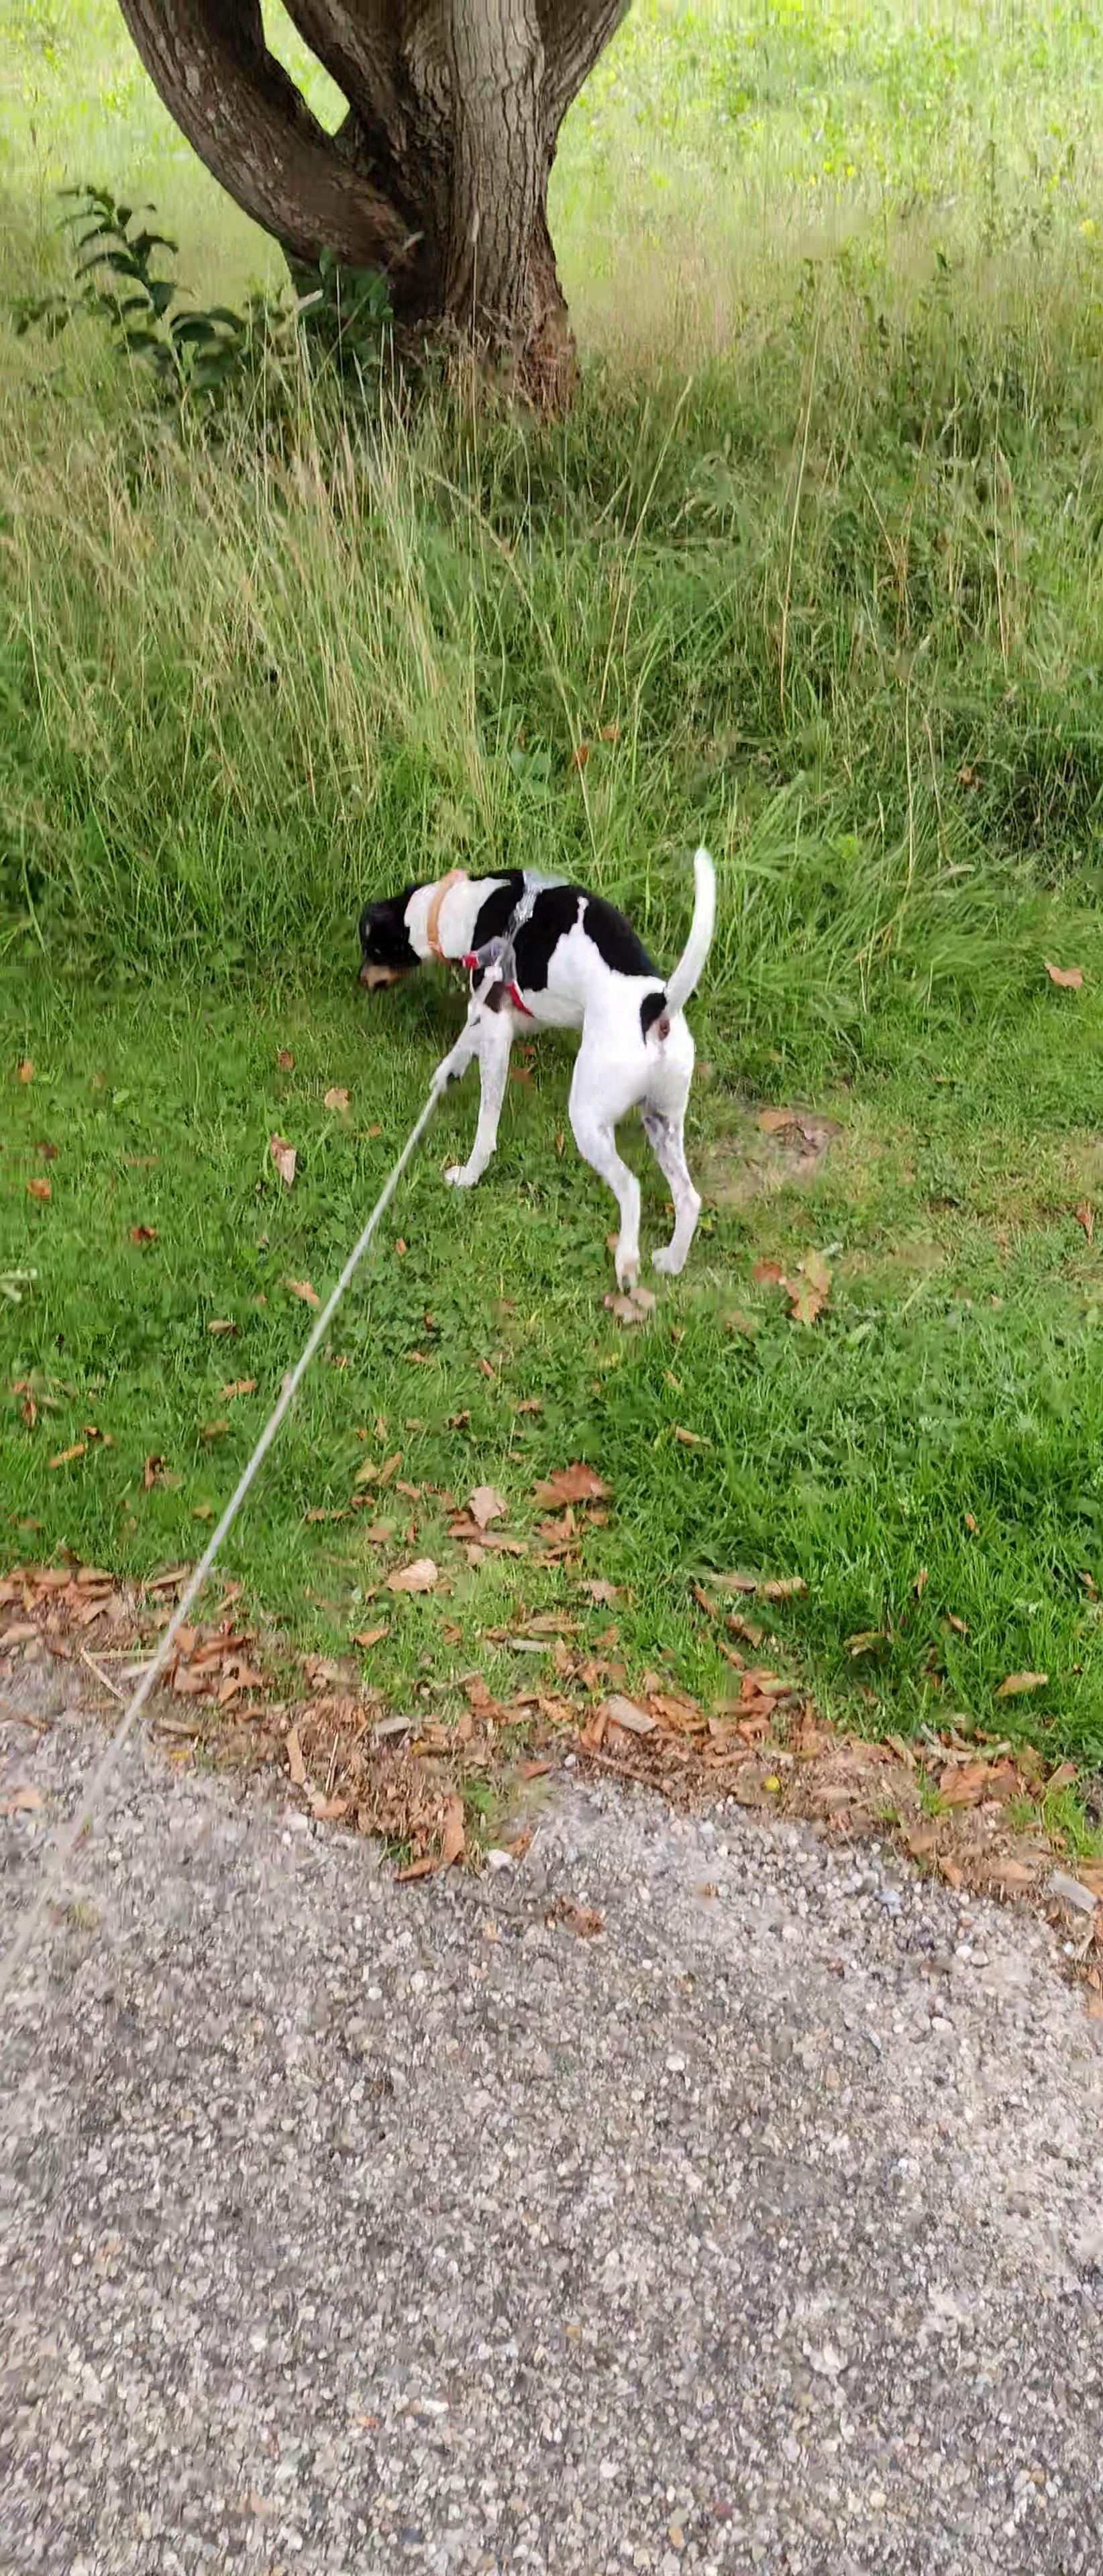Dog: (317, 838, 751, 1291)
